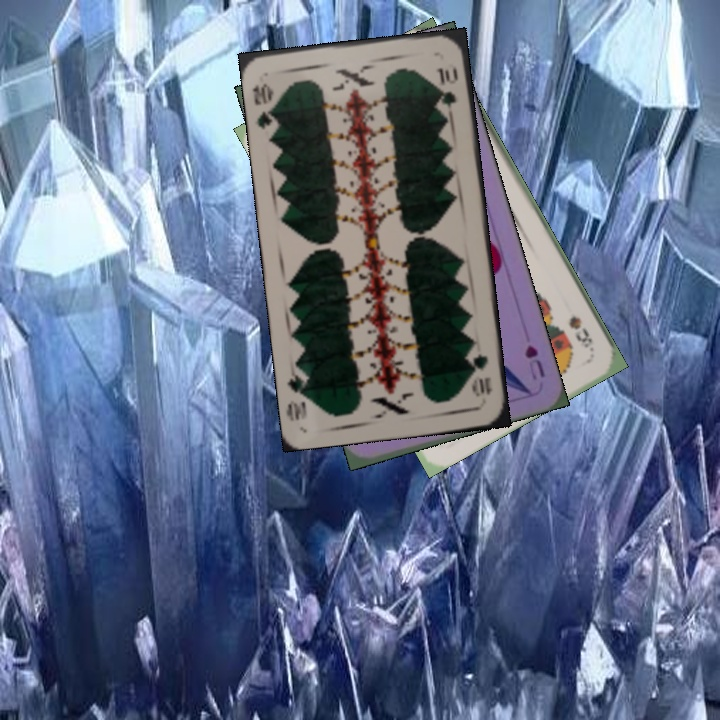G10: (249, 79, 281, 135), (467, 349, 494, 399)
HU: (520, 341, 547, 383)
S8: (564, 312, 597, 355)
